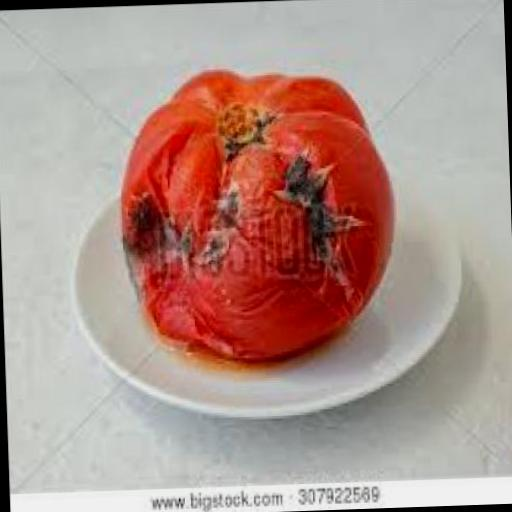biodegradable: (112, 59, 398, 366)
